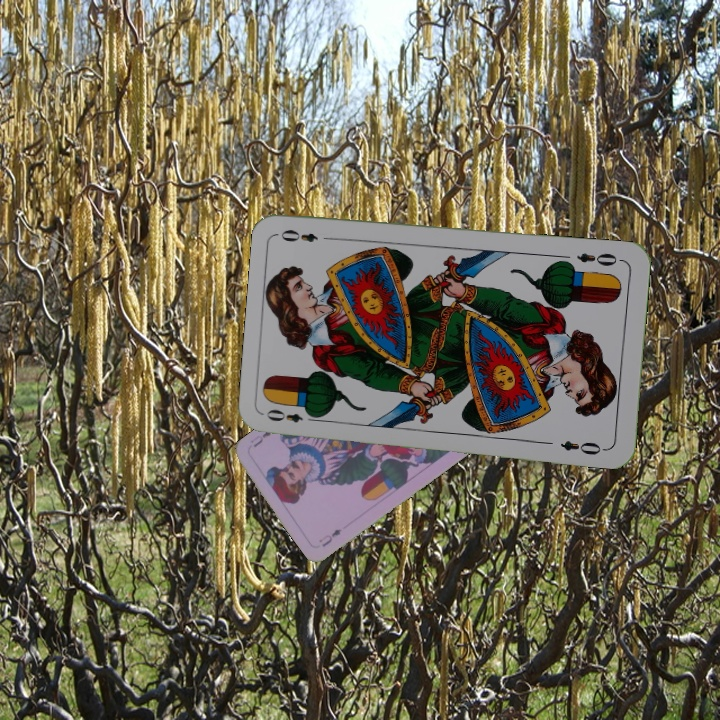EO: (262, 406, 321, 425), (573, 248, 625, 269)
EU: (315, 525, 344, 549)
